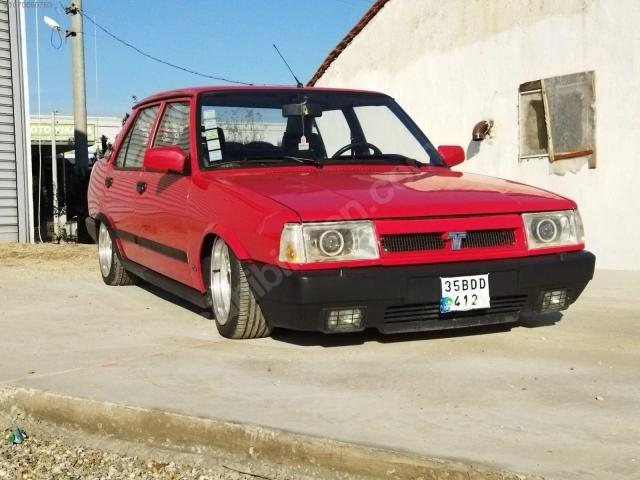plaka: (440, 274, 490, 312)
